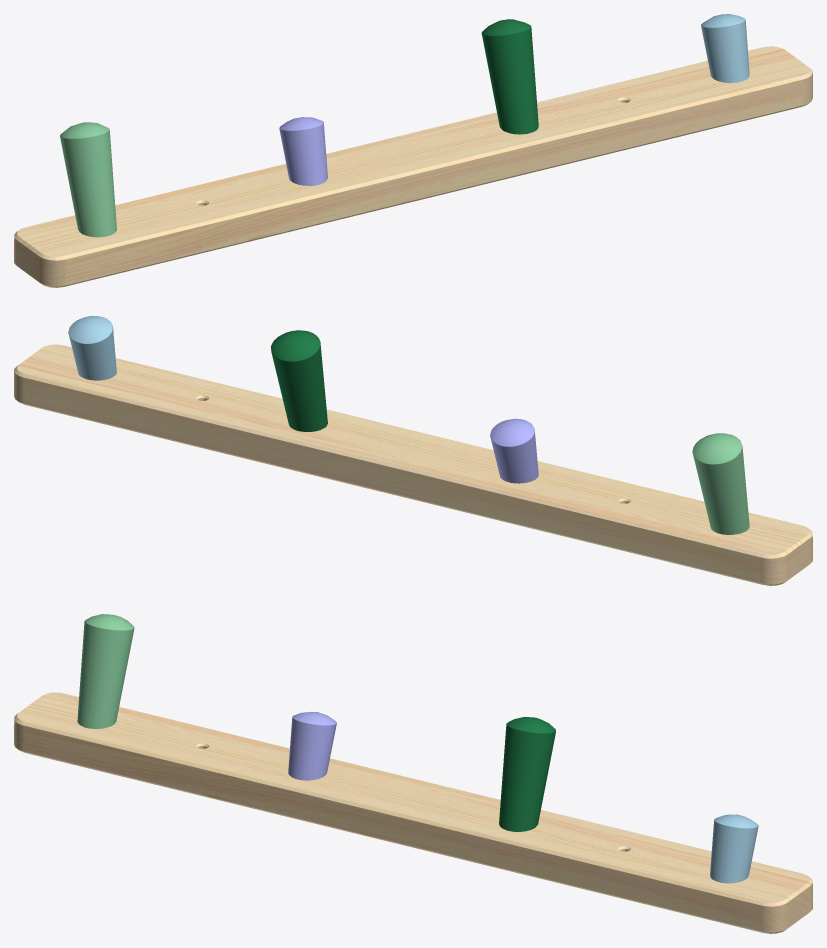
The model's file is flisat_wieszak_4_gaki_40614568.glb.
3 views of the same model, one above another, from view 1: azimuth 30°, elevation 25°; view 2: azimuth 150°, elevation 25°; view 3: azimuth 330°, elevation 25° (orthographic).
Visible parts, largest first — view 1: flisat_wieszak_4_gaki_40614568; view 2: flisat_wieszak_4_gaki_40614568; view 3: flisat_wieszak_4_gaki_40614568.
Part boxes in pixels (x1=…): flisat_wieszak_4_gaki_40614568: x1=14, y1=14, x2=812, y2=287; flisat_wieszak_4_gaki_40614568: x1=14, y1=316, x2=812, y2=585; flisat_wieszak_4_gaki_40614568: x1=14, y1=614, x2=812, y2=933.
Bounding box in the file's own units: 0.468 × 0.0757 × 0.0477.
1 material, 1 textured.
